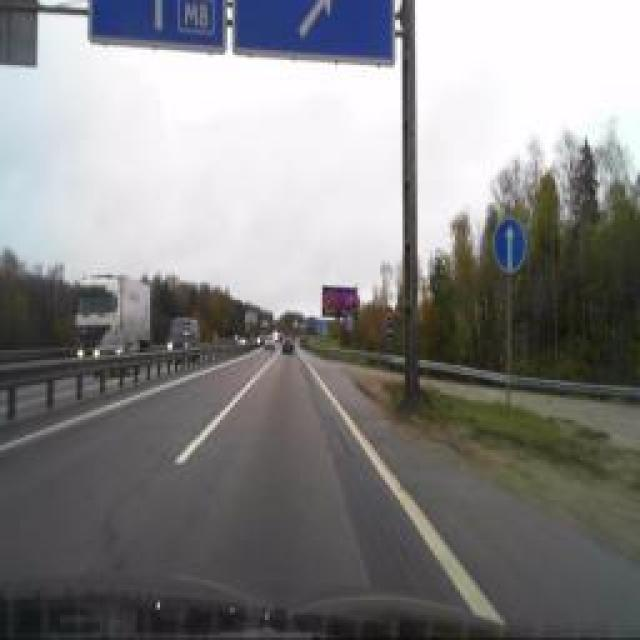sign: (493, 220, 525, 272)
